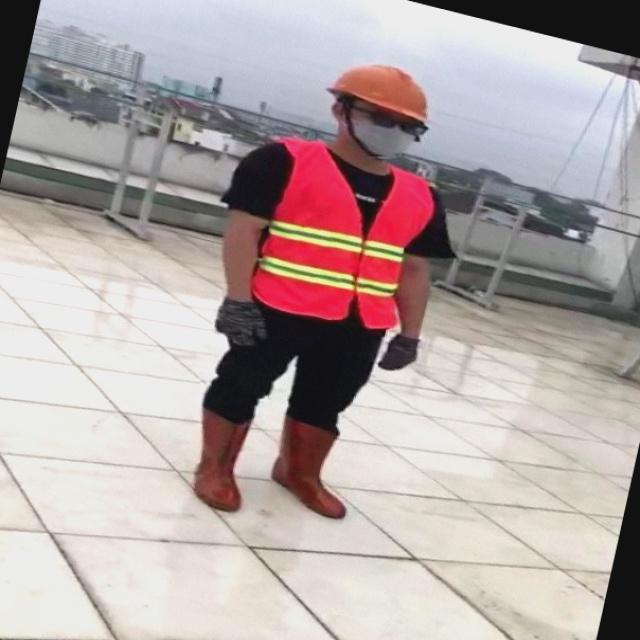helmet: (322, 58, 442, 132)
safety_vest: (242, 146, 426, 334)
